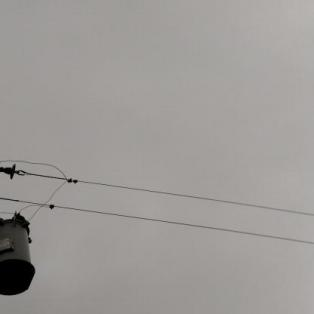Poste: (0, 126, 2, 314)
